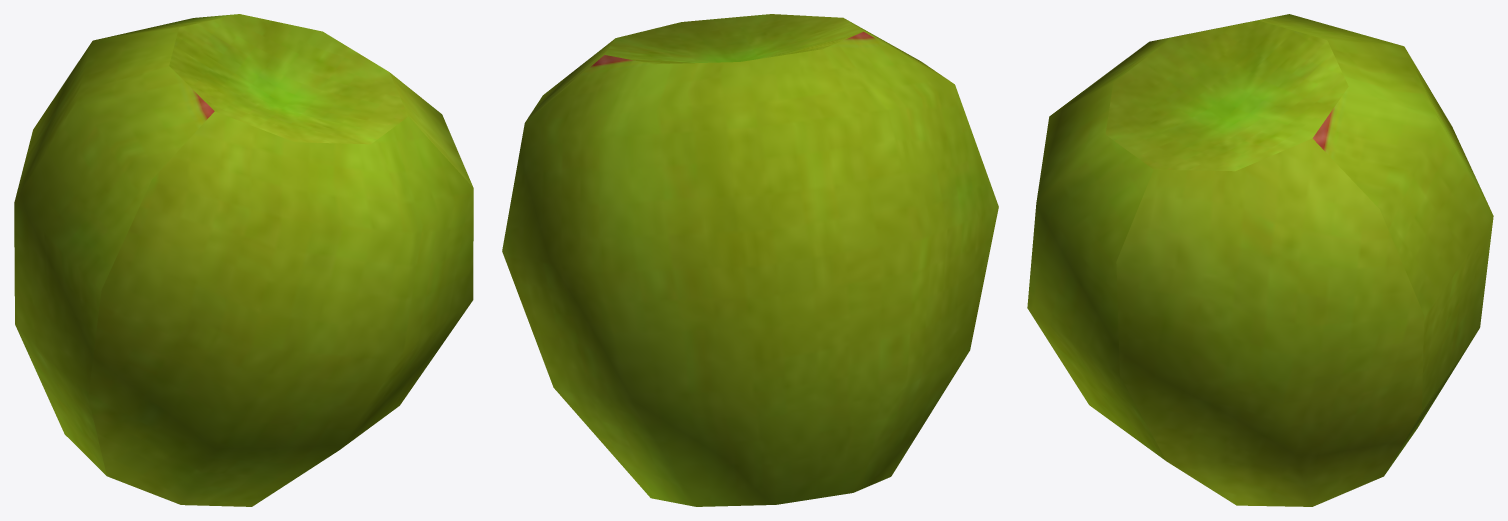
Rendered from manzana_1.fbx.
The picture shows the model from 3 angles, left to right: view 1: azimuth 30°, elevation 25°; view 2: azimuth 150°, elevation 25°; view 3: azimuth 270°, elevation 25°; orthographic projection. The views are drawn at different scales.
Visible parts, largest first — view 1: manzana; view 2: manzana; view 3: manzana.
Part boxes in pixels (left/top/right/bottom): manzana: left=14, top=14, right=473, bottom=506; manzana: left=502, top=14, right=998, bottom=506; manzana: left=1027, top=14, right=1493, bottom=506.
Size of the model in its own units: 0.2404 by 0.2497 by 0.2424.
Materials: 1 (1 with a texture image).
